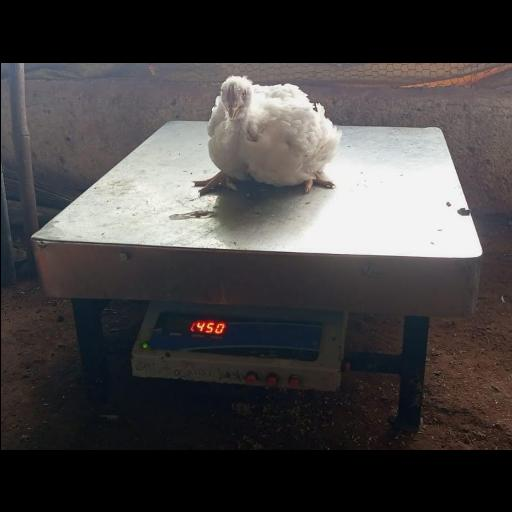chick: (198, 74, 342, 191)
